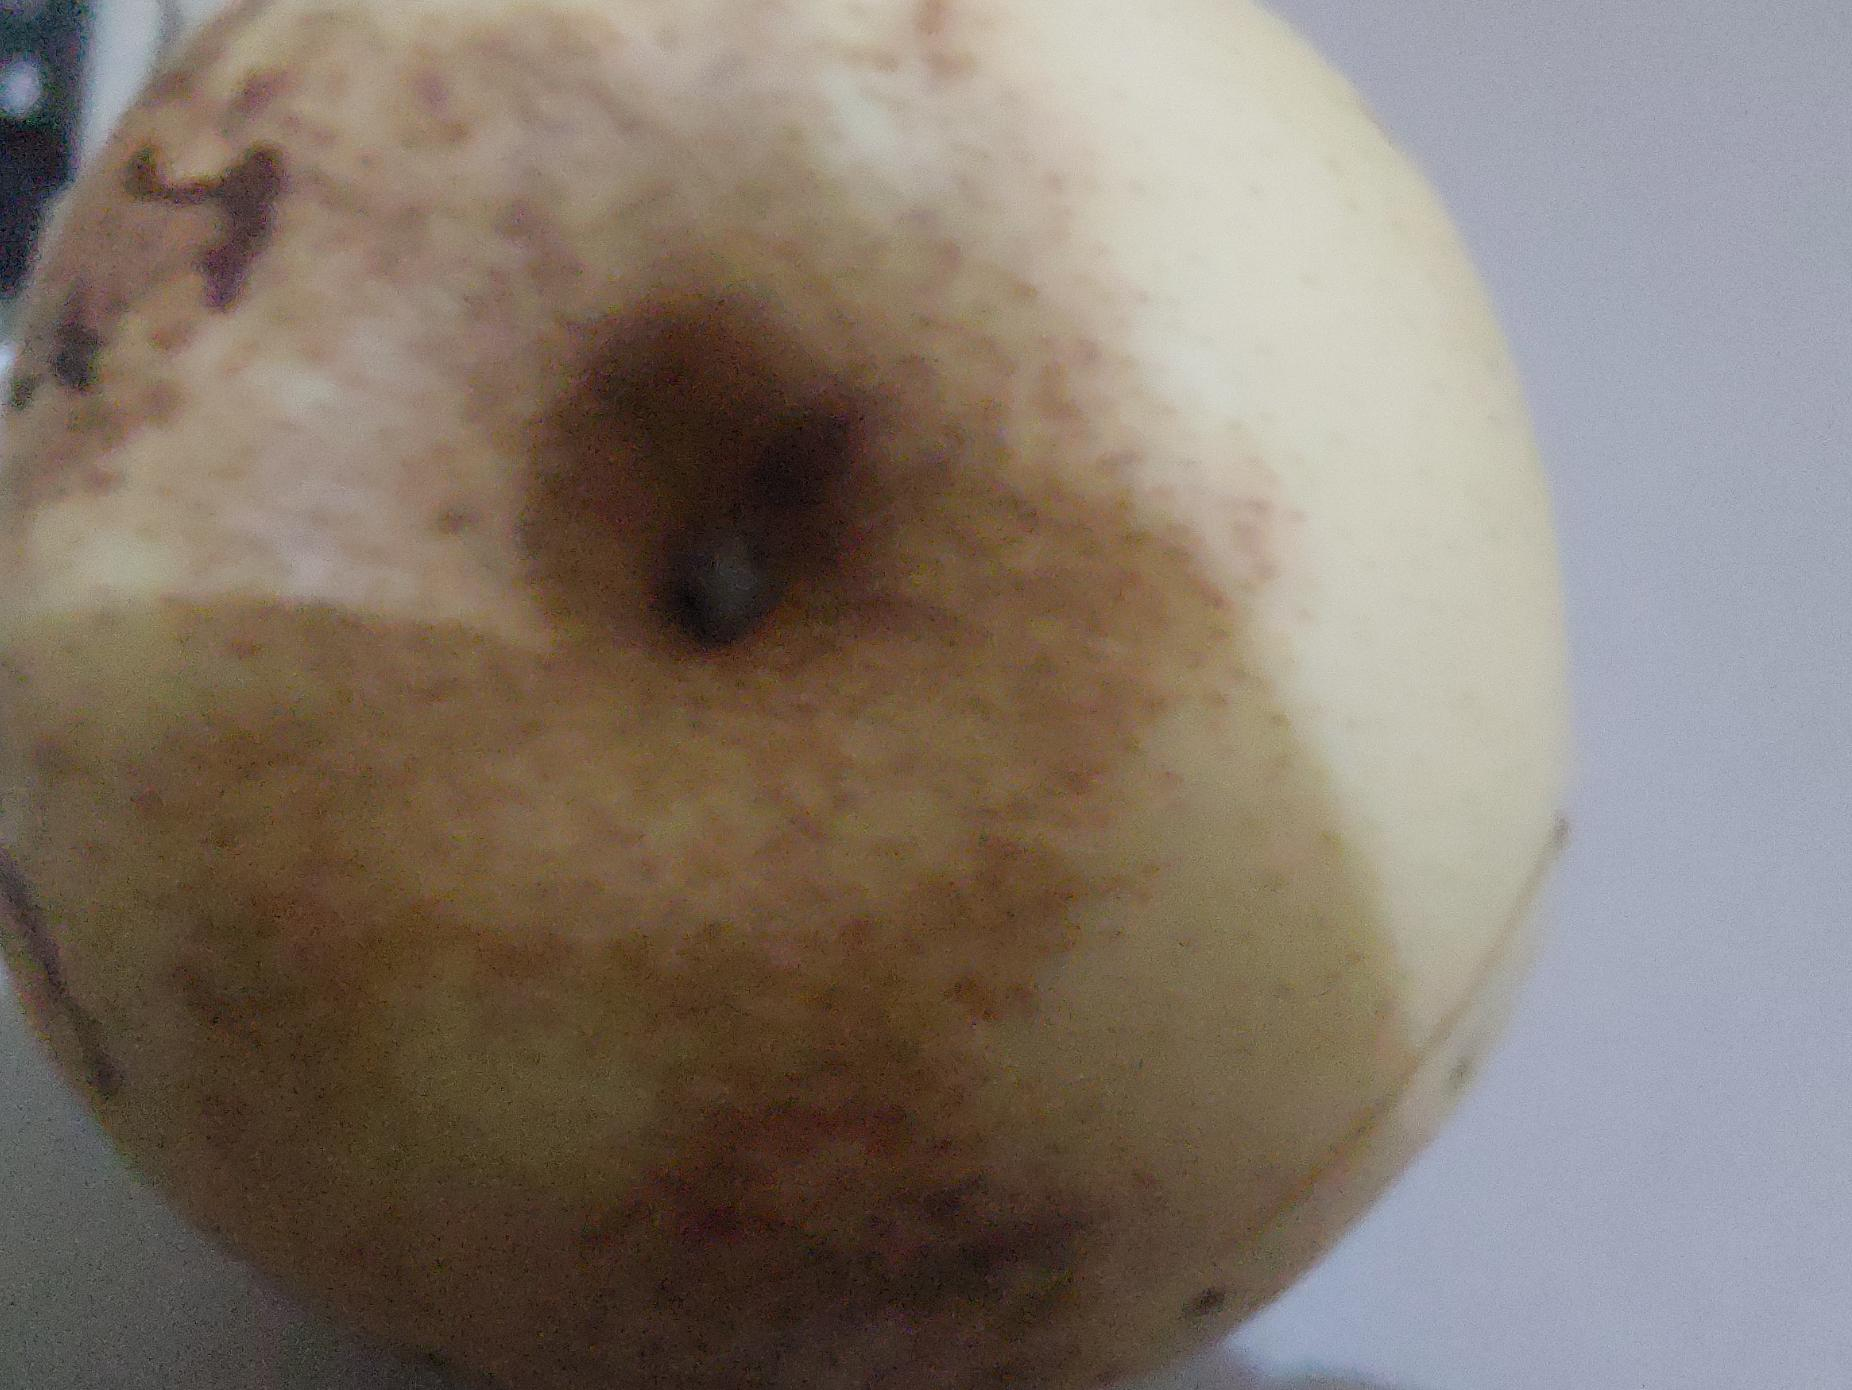Bad Pear: (0, 0, 1554, 1390)
